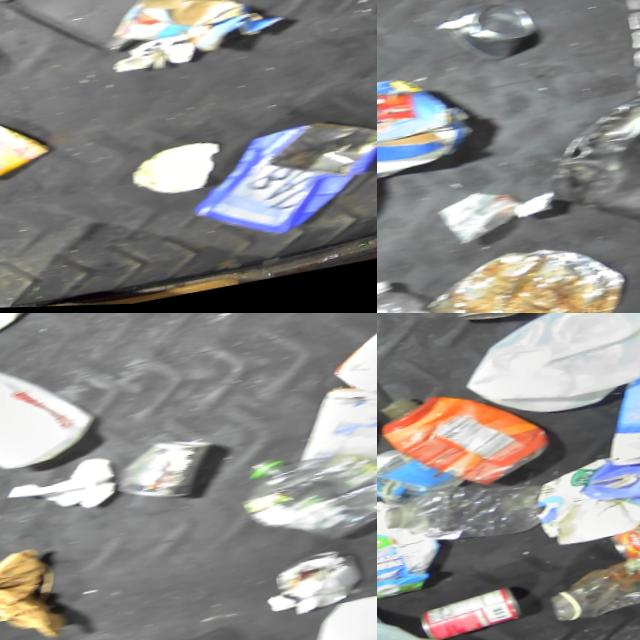can: (421, 581, 554, 640), (117, 435, 223, 508), (444, 0, 545, 67), (0, 112, 65, 191), (450, 313, 545, 332)
milk_jug: (454, 313, 640, 429), (0, 349, 110, 483), (377, 561, 506, 640)
non_white_jug: (377, 369, 571, 508), (537, 59, 640, 264), (605, 340, 640, 485)
plastic_bottle: (240, 435, 377, 557), (387, 472, 568, 561), (377, 265, 479, 313)
